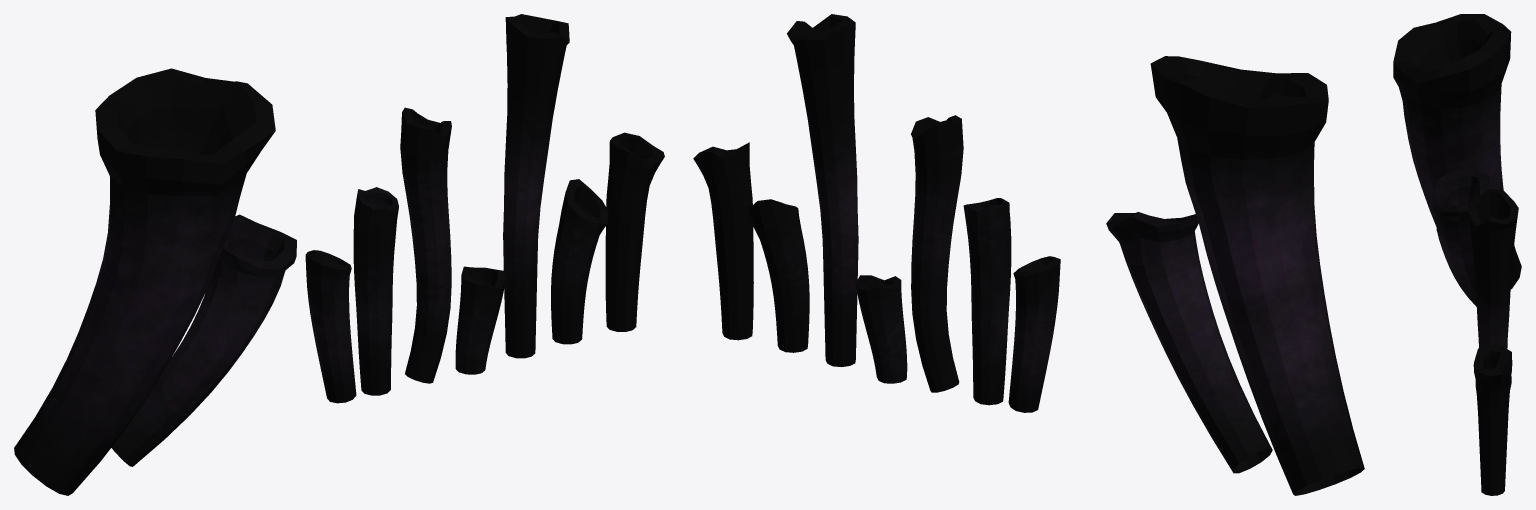
Rendered from plant_14.fbx.
3 views of the same model, side by side, from view 1: azimuth 30°, elevation 25°; view 2: azimuth 150°, elevation 25°; view 3: azimuth 270°, elevation 25° (orthographic). The views are drawn at different scales.
Visible parts, largest first — view 1: polySurface1, polySurface2, polySurface7, polySurface5, polySurface4, polySurface9, polySurface8, polySurface3, polySurface6; view 2: polySurface1, polySurface2, polySurface7, polySurface5, polySurface4, polySurface9, polySurface8, polySurface3, polySurface6; view 3: polySurface1, polySurface7, polySurface9, polySurface2.
Part boxes in pixels (x1=…): polySurface1: x1=14, y1=68, x2=275, y2=495; polySurface2: x1=111, y1=214, x2=296, y2=466; polySurface7: x1=503, y1=14, x2=569, y2=358; polySurface5: x1=400, y1=107, x2=451, y2=383; polySurface4: x1=353, y1=187, x2=398, y2=395; polySurface9: x1=605, y1=132, x2=664, y2=331; polySurface8: x1=551, y1=179, x2=608, y2=344; polySurface3: x1=305, y1=250, x2=356, y2=403; polySurface6: x1=455, y1=266, x2=505, y2=374; polySurface1: x1=1150, y1=56, x2=1364, y2=495; polySurface2: x1=1106, y1=212, x2=1272, y2=473; polySurface7: x1=787, y1=14, x2=858, y2=366; polySurface5: x1=911, y1=115, x2=963, y2=392; polySurface4: x1=963, y1=198, x2=1011, y2=405; polySurface9: x1=693, y1=142, x2=753, y2=340; polySurface8: x1=748, y1=199, x2=809, y2=352; polySurface3: x1=1008, y1=256, x2=1060, y2=412; polySurface6: x1=855, y1=275, x2=907, y2=383; polySurface1: x1=1393, y1=14, x2=1521, y2=289; polySurface7: x1=1468, y1=189, x2=1518, y2=348; polySurface9: x1=1473, y1=344, x2=1512, y2=495; polySurface2: x1=1432, y1=169, x2=1490, y2=306.
Bounding box in the file's own units: 19.44 × 11.04 × 4.28.
